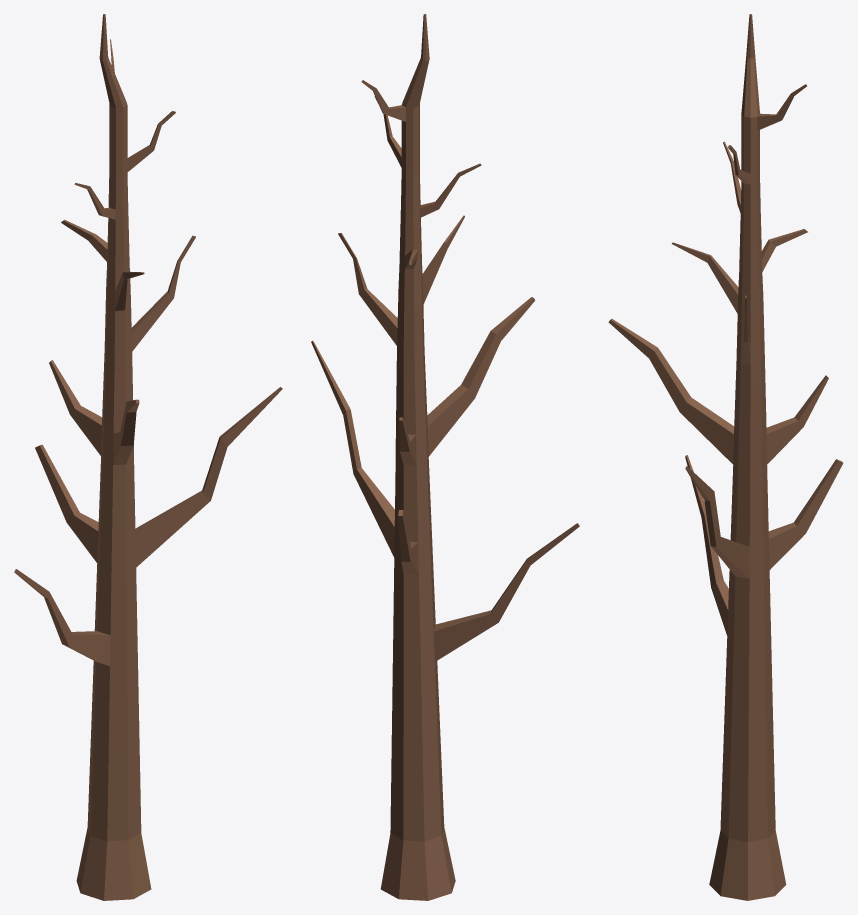
The model's file is pine_4.fbx.
The picture shows the model from 3 angles, left to right: view 1: azimuth 30°, elevation 25°; view 2: azimuth 150°, elevation 25°; view 3: azimuth 270°, elevation 25°; orthographic projection.
Visible parts, largest first — view 1: pine_4; view 2: pine_4; view 3: pine_4.
Part boxes in pixels (x1=…): pine_4: x1=14, y1=14, x2=282, y2=900; pine_4: x1=311, y1=14, x2=579, y2=900; pine_4: x1=608, y1=14, x2=843, y2=900.
Size of the model in its own units: 216 by 670 by 165.
